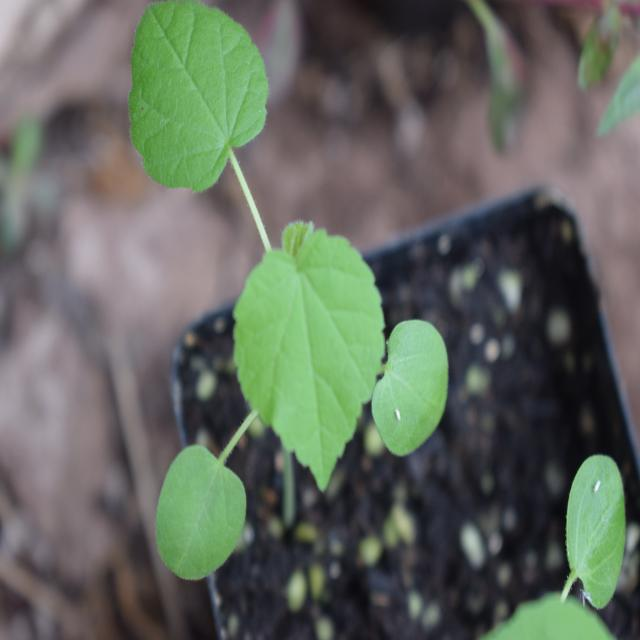abutilon theophrasti: (118, 7, 444, 556)
